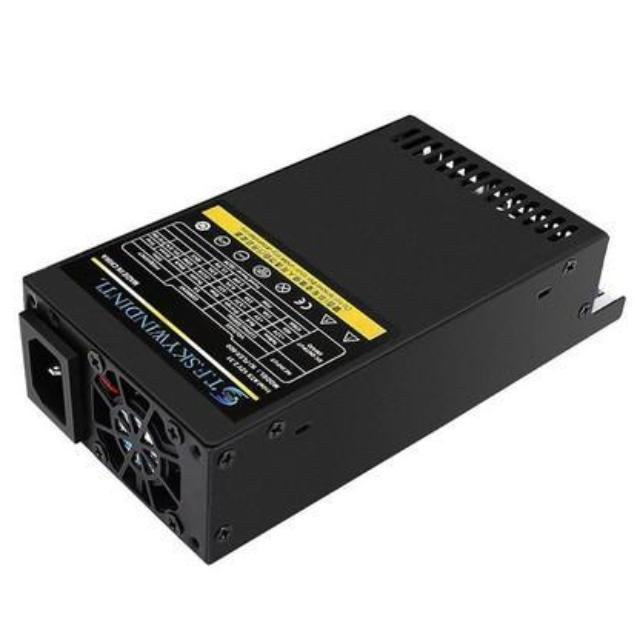PSU: (9, 105, 640, 577)
